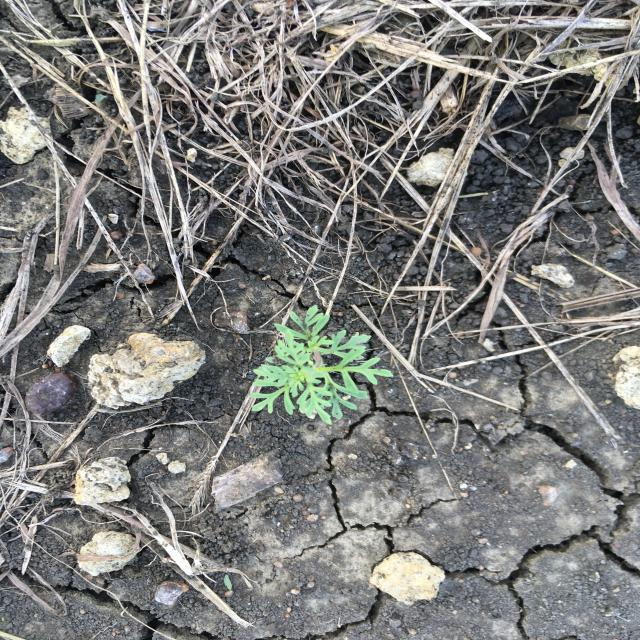Ragweed: (246, 302, 398, 429)
